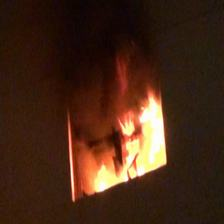fire: (54, 70, 179, 200)
